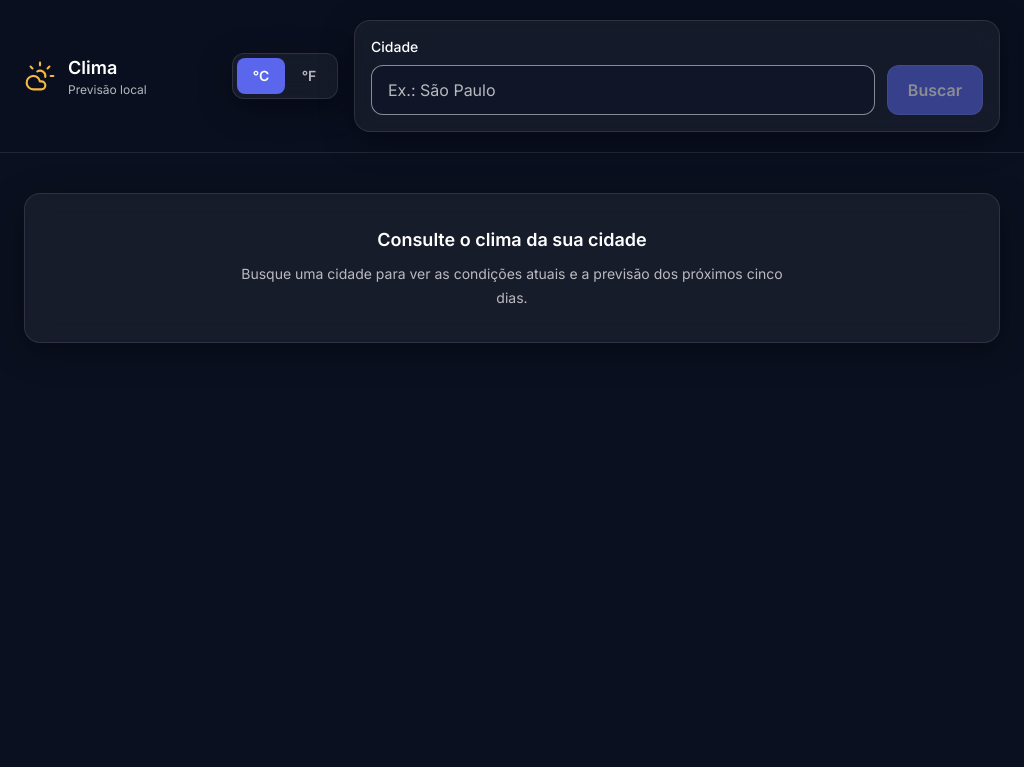
Test: App › mostra error e permite repetir a busca
Type "São Paulo" into the search field labelled "Cidade" at (623, 90), box left=371, top=65, right=875, bottom=115
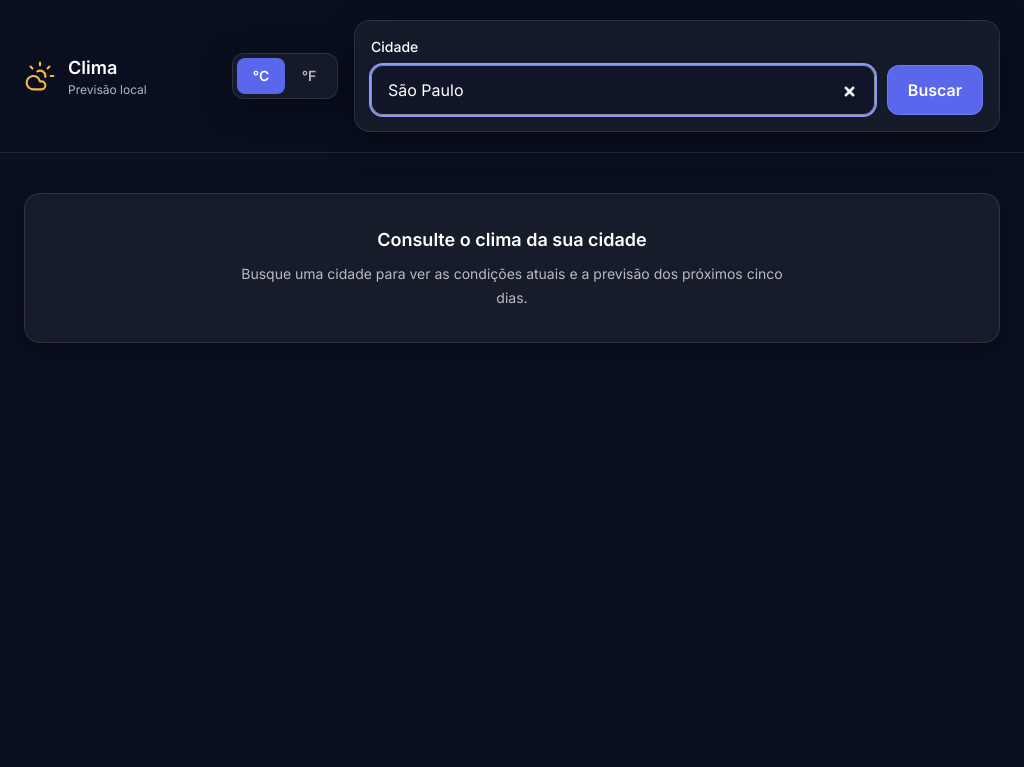
Click the button "Buscar" at (935, 90), box left=887, top=65, right=983, bottom=115
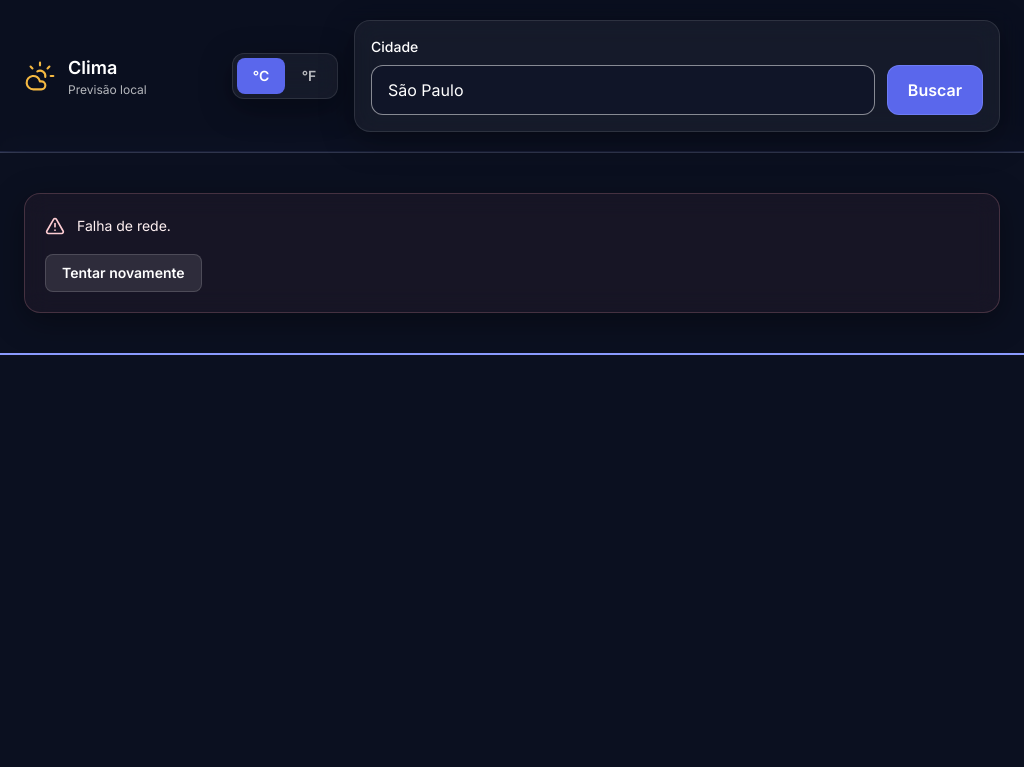
Check: the message reads "Falha de rede.", box left=77, top=217, right=171, bottom=234
Click the button "Tentar novamente" at (123, 273), box left=45, top=254, right=202, bottom=292
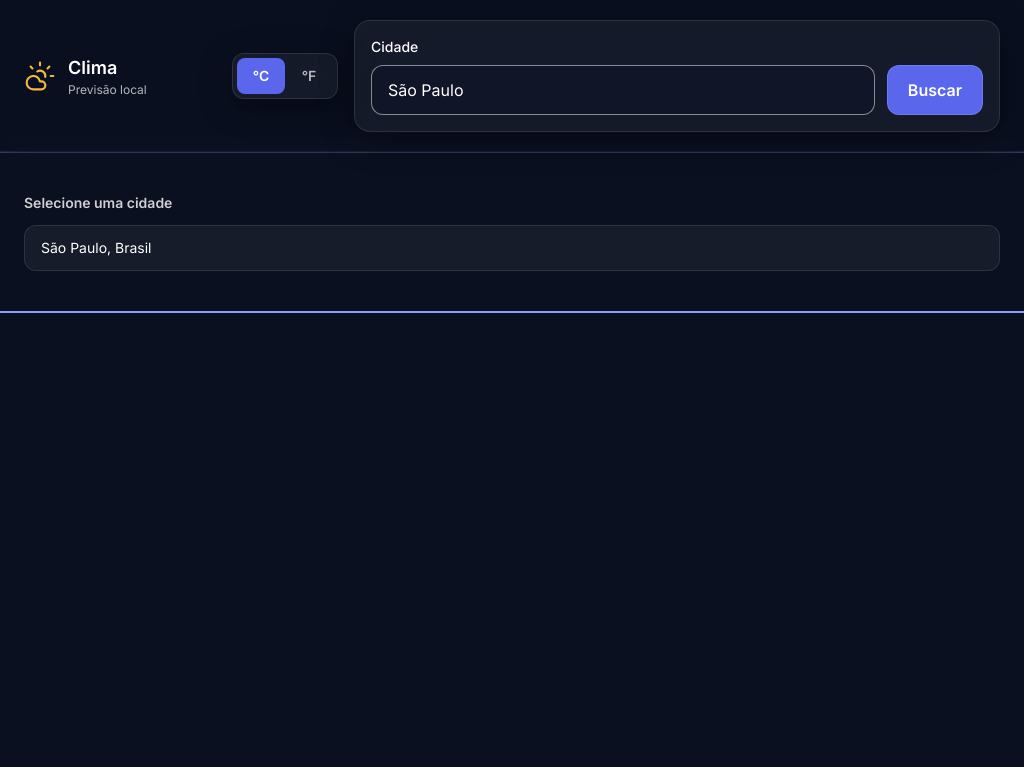
Click the button "São Paulo, Brasil" at (96, 248), box left=24, top=225, right=1000, bottom=271
(page scrolled)
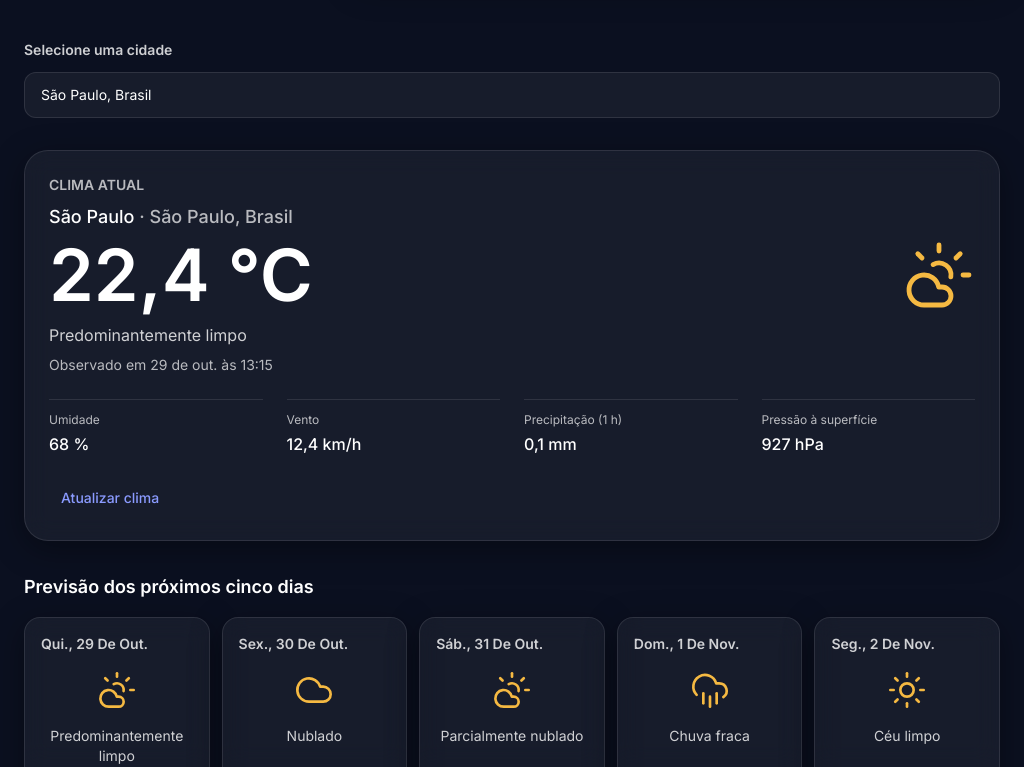
Check: the heading "Clima atual" is shown, box left=49, top=176, right=144, bottom=193
